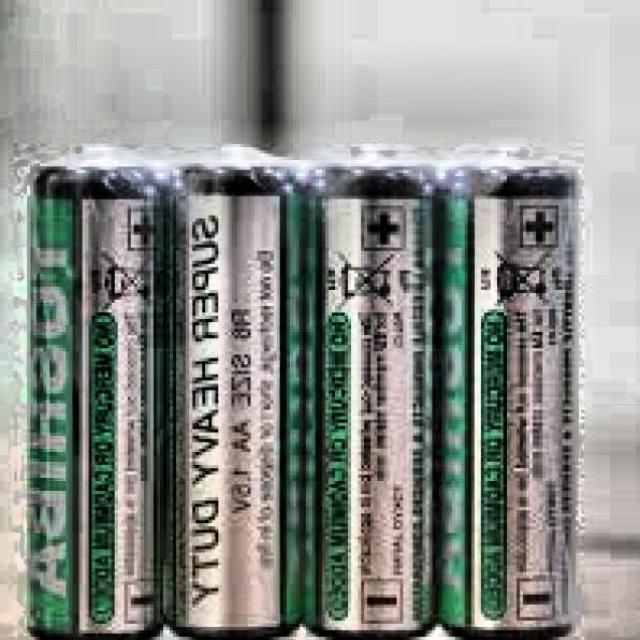battery: (26, 147, 175, 640), (434, 146, 575, 640), (170, 147, 308, 633), (313, 146, 442, 640)
